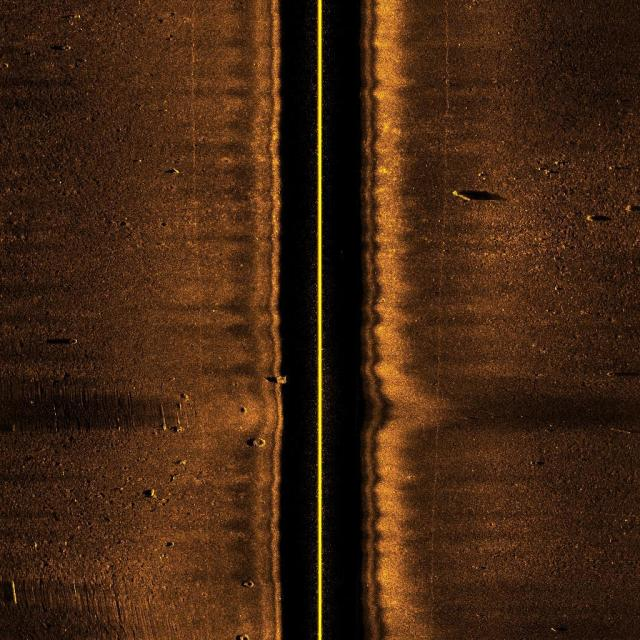mine: (448, 185, 502, 207), (1, 577, 21, 607)
other: (250, 433, 270, 452)
